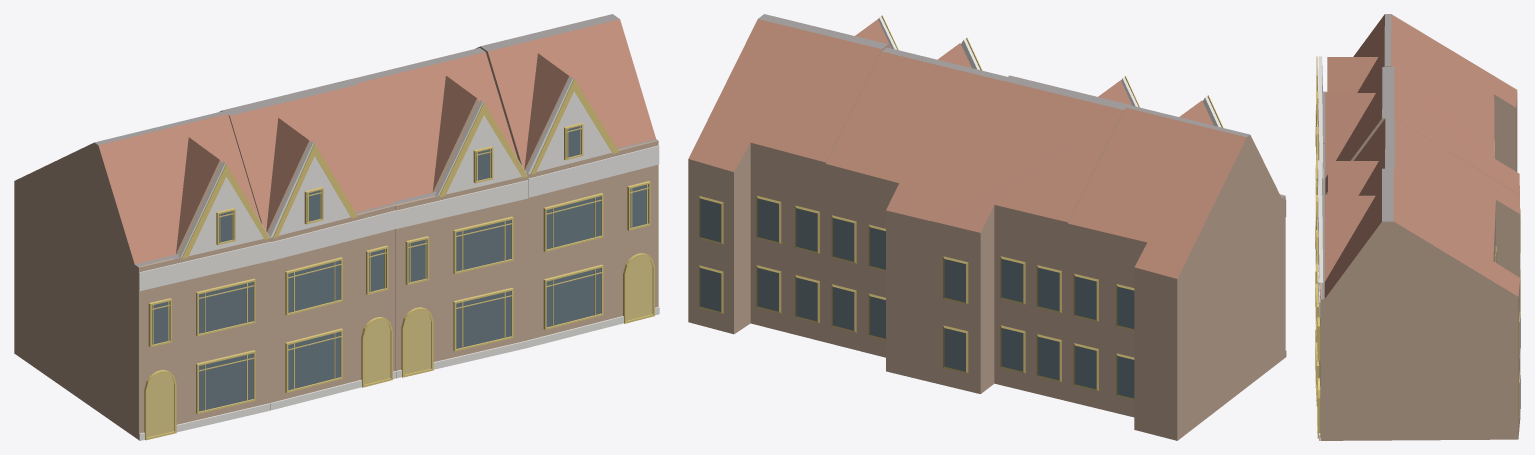
File: chunk-face-zaanhof-71-78.glb
3 renders of one model, left to right at view 1: azimuth 30°, elevation 25°; view 2: azimuth 150°, elevation 25°; view 3: azimuth 270°, elevation 25°, orthographic. The views are drawn at different scales.
Visible parts, largest first — view 1: face-zaanhof-71-78; view 2: face-zaanhof-71-78; view 3: face-zaanhof-71-78.
Part boxes in pixels (x1,y1,x2,y2): face-zaanhof-71-78: (14,14,659,440); face-zaanhof-71-78: (688,14,1286,440); face-zaanhof-71-78: (1315,14,1520,440).
Size of the model in its own units: 23.96 by 11.67 by 9.92.
